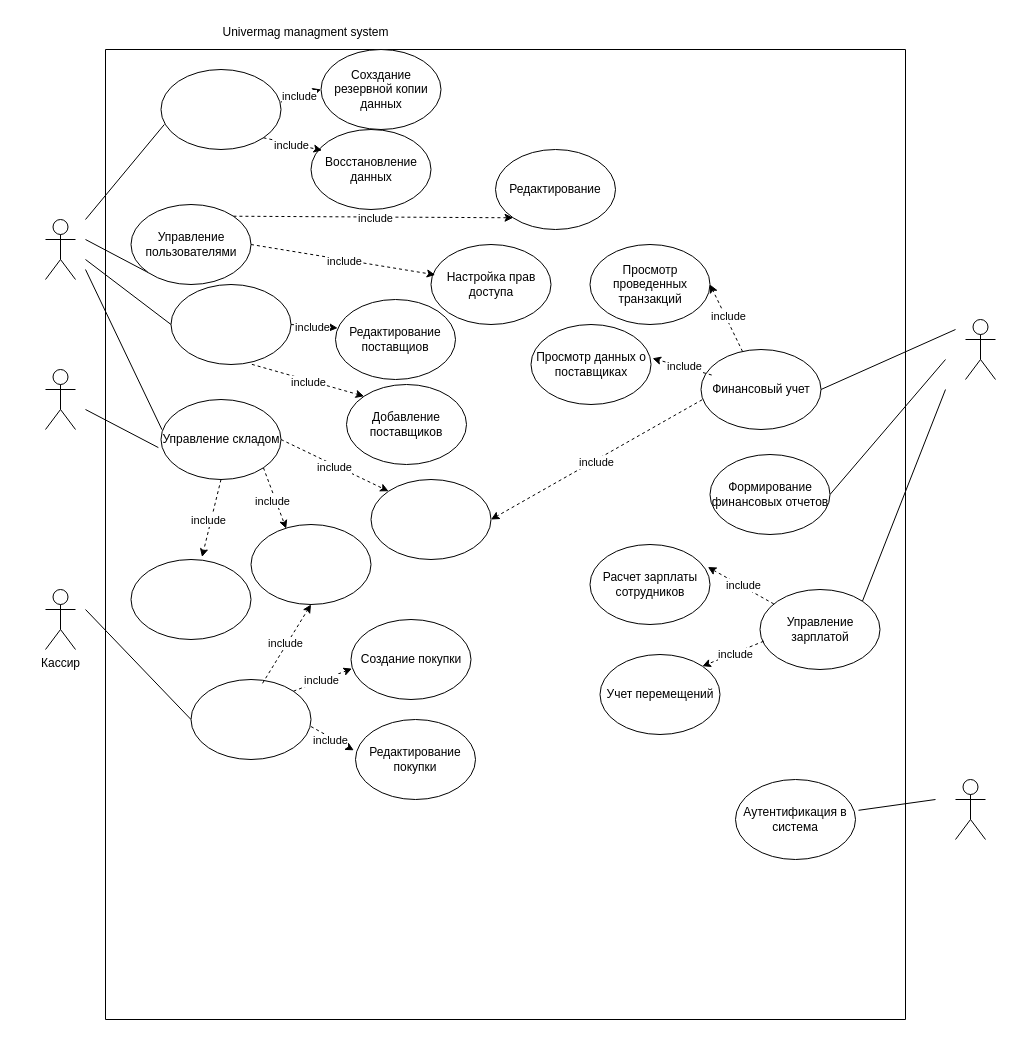
The diagram is 1027 pixels wide and 1037 high, and some of its shapes have lost their labels. The shapes that lost their labels are listed below. From the top down, each one's box as (x1, y1, x2, y2) in pixels, then its label:
(160, 68, 281, 150): Управление резервным копированием
(44, 218, 76, 280): Администратор
(170, 284, 291, 364): Управление поставщиками
(964, 318, 996, 380): Бухгалтер
(44, 368, 76, 430): Складской работник
(370, 478, 491, 560): Учет оплаты и поставки
(250, 524, 371, 604): Контроль запасов
(130, 558, 251, 640): Редактирование товаров
(190, 678, 311, 760): Прадажа товаров
(954, 778, 986, 840): Пользователь
